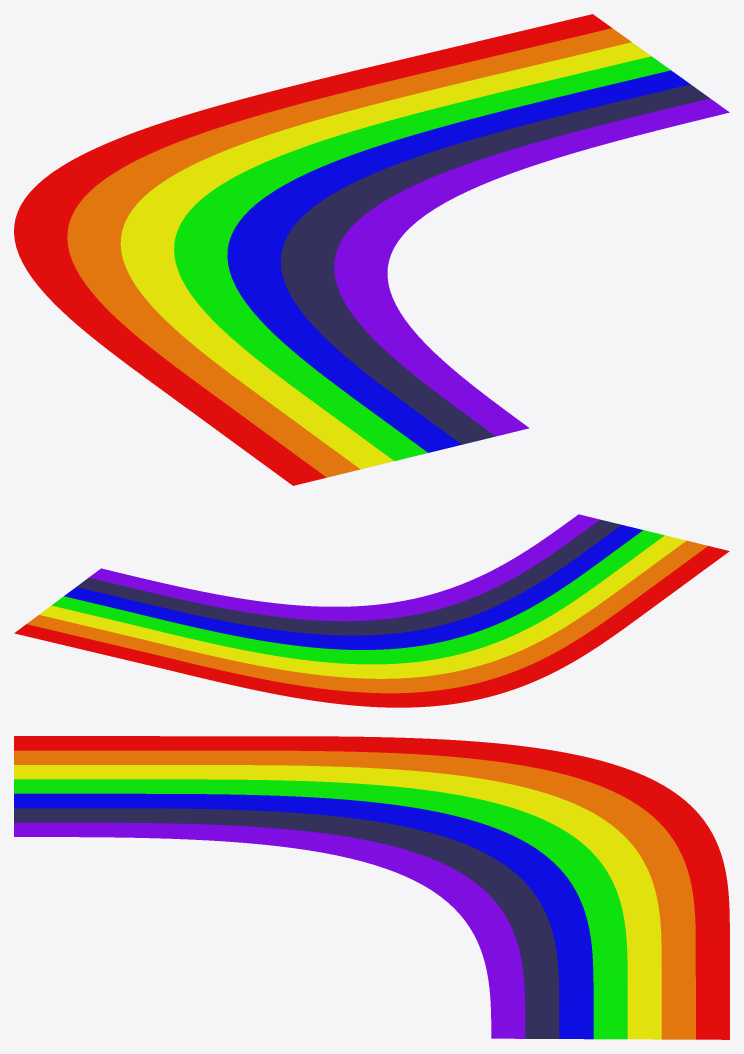
The model's file is Rainbow Bend.fbx.
The picture shows the model from 3 angles, top to bottom: view 1: azimuth 30°, elevation 25°; view 2: azimuth 150°, elevation 25°; view 3: azimuth 270°, elevation 25°; orthographic projection. The views are drawn at different scales.
Visible parts, largest first — view 1: Rainbow Bend; view 2: Rainbow Bend; view 3: Rainbow Bend.
Part boxes in pixels (bbox=[...]): Rainbow Bend: bbox=[14, 14, 729, 485]; Rainbow Bend: bbox=[14, 514, 729, 707]; Rainbow Bend: bbox=[14, 736, 729, 1039].
Bounding box in the file's own units: 300 × 0.6599 × 300.
